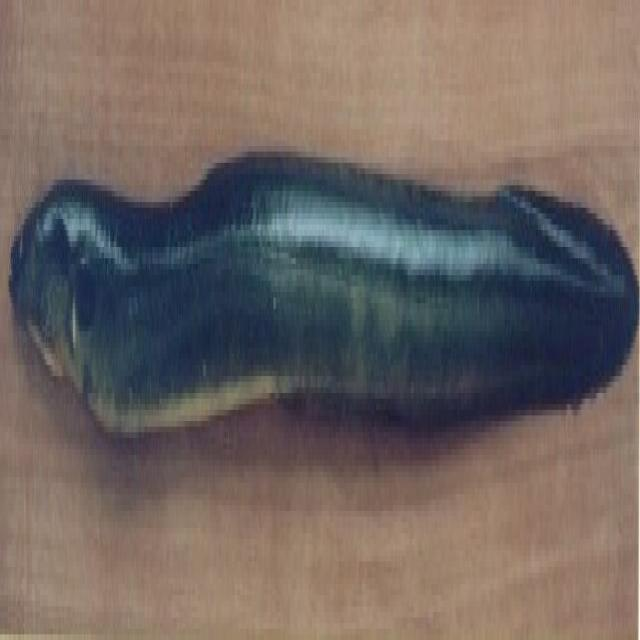Freshwater-Eel: (0, 74, 640, 532)
